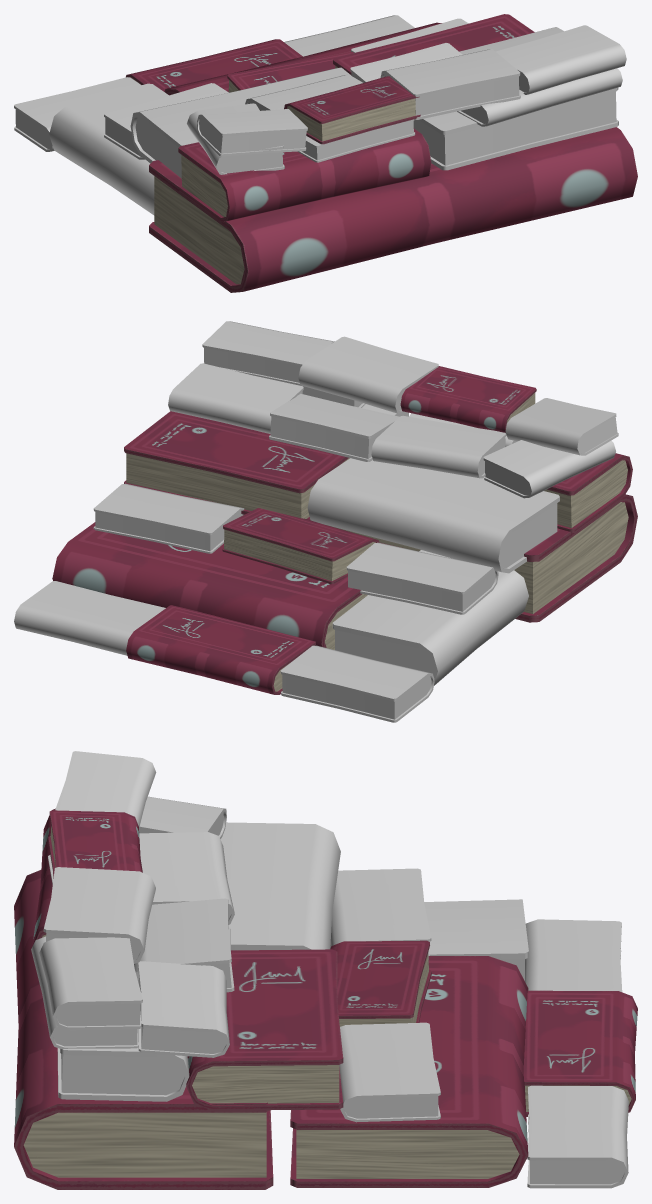
The model's file is Mesh_Structure_BookStaircase_Default_A.fbx.
The picture shows the model from 3 angles, top to bottom: view 1: azimuth 30°, elevation 25°; view 2: azimuth 150°, elevation 25°; view 3: azimuth 270°, elevation 25°; orthographic projection. The views are drawn at different scales.
Parts seen in each view (by area): view 1: BookStaircase_01_Mesh; view 2: BookStaircase_01_Mesh; view 3: BookStaircase_01_Mesh.
Part boxes in pixels (<box>): BookStaircase_01_Mesh: <box>14,14,637,292</box>; BookStaircase_01_Mesh: <box>14,321,637,722</box>; BookStaircase_01_Mesh: <box>14,751,637,1189</box>.
Size of the model in its own units: 6.62 by 2.47 by 7.05.
